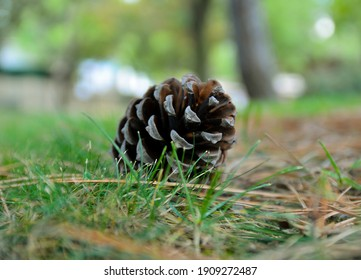Pc: (113, 75, 235, 194)
